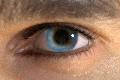eye: (46, 27, 78, 52)
